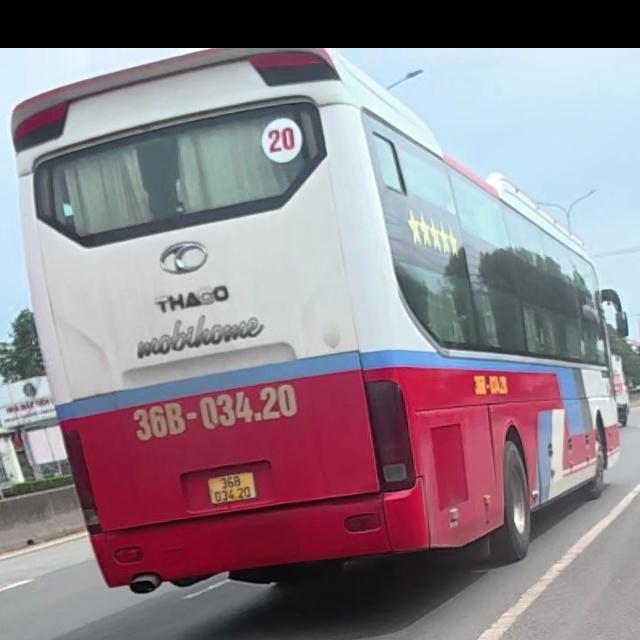car: (6, 48, 626, 600)
plate: (207, 468, 257, 504)
